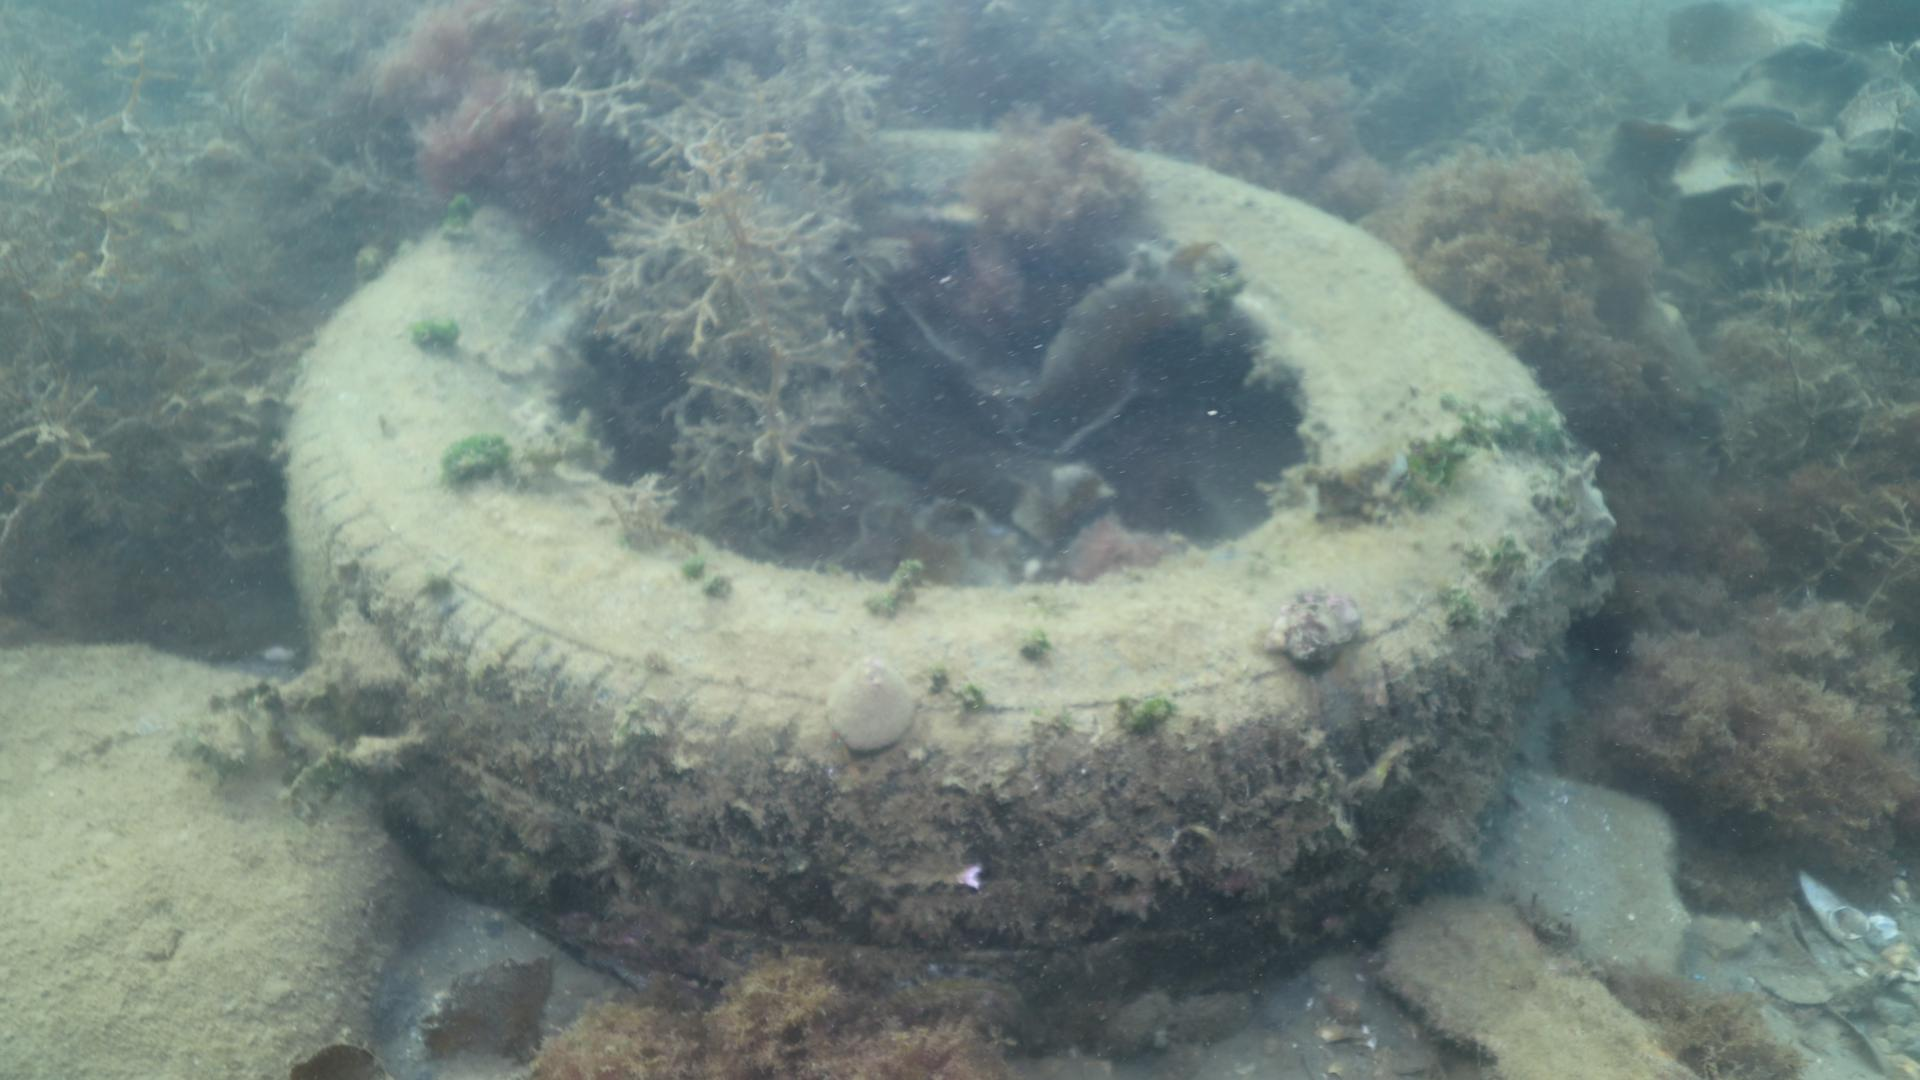tire: (291, 123, 1571, 1006)
